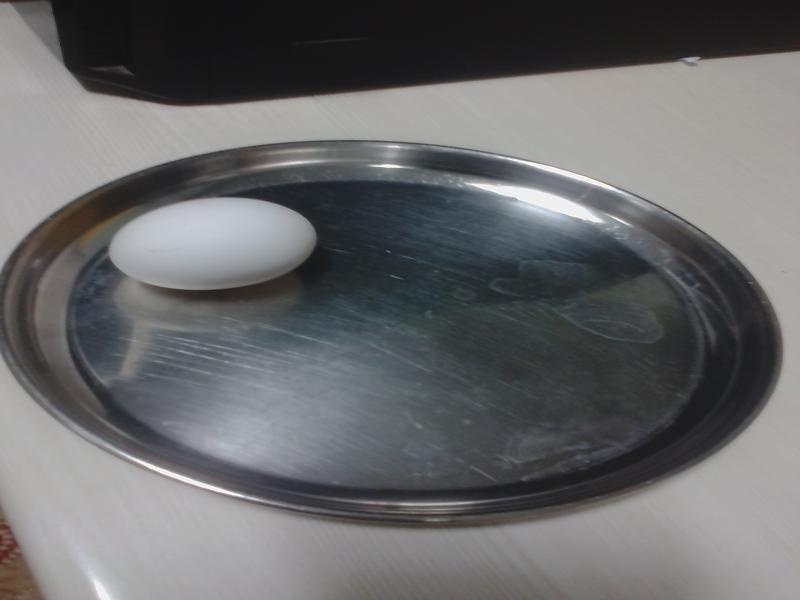egg: (107, 198, 313, 291)
